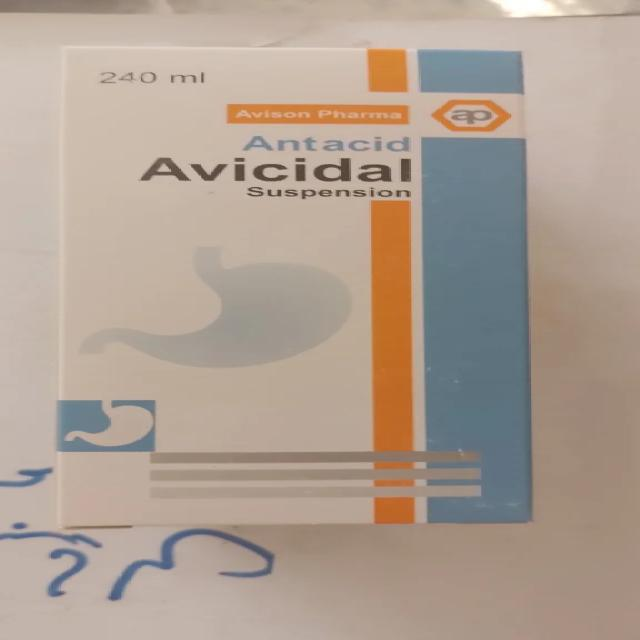drug-name: (138, 156, 412, 184)
